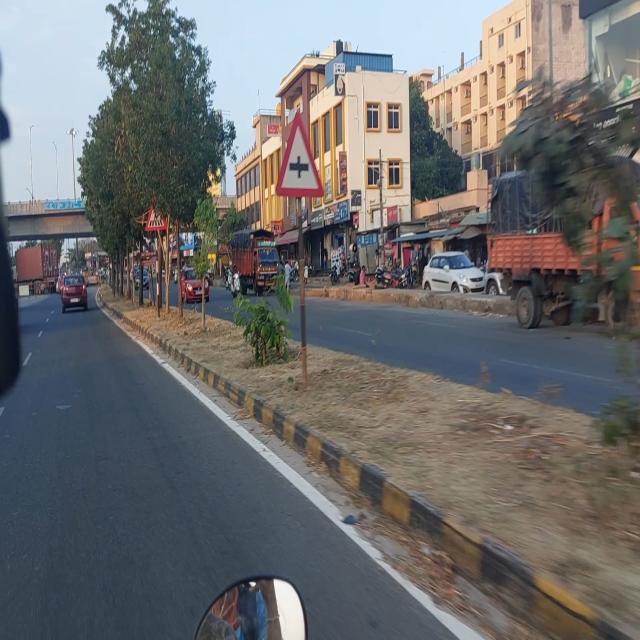bien_cam: (276, 104, 322, 200), (144, 188, 174, 235)
